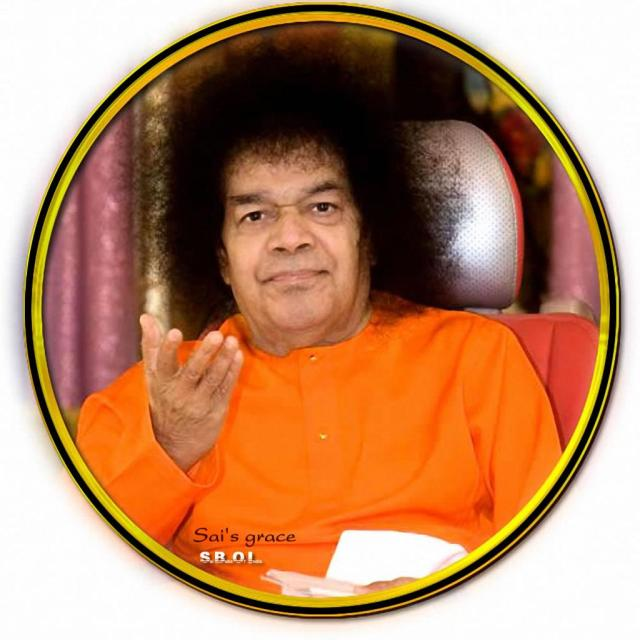Face: (218, 153, 379, 342)
